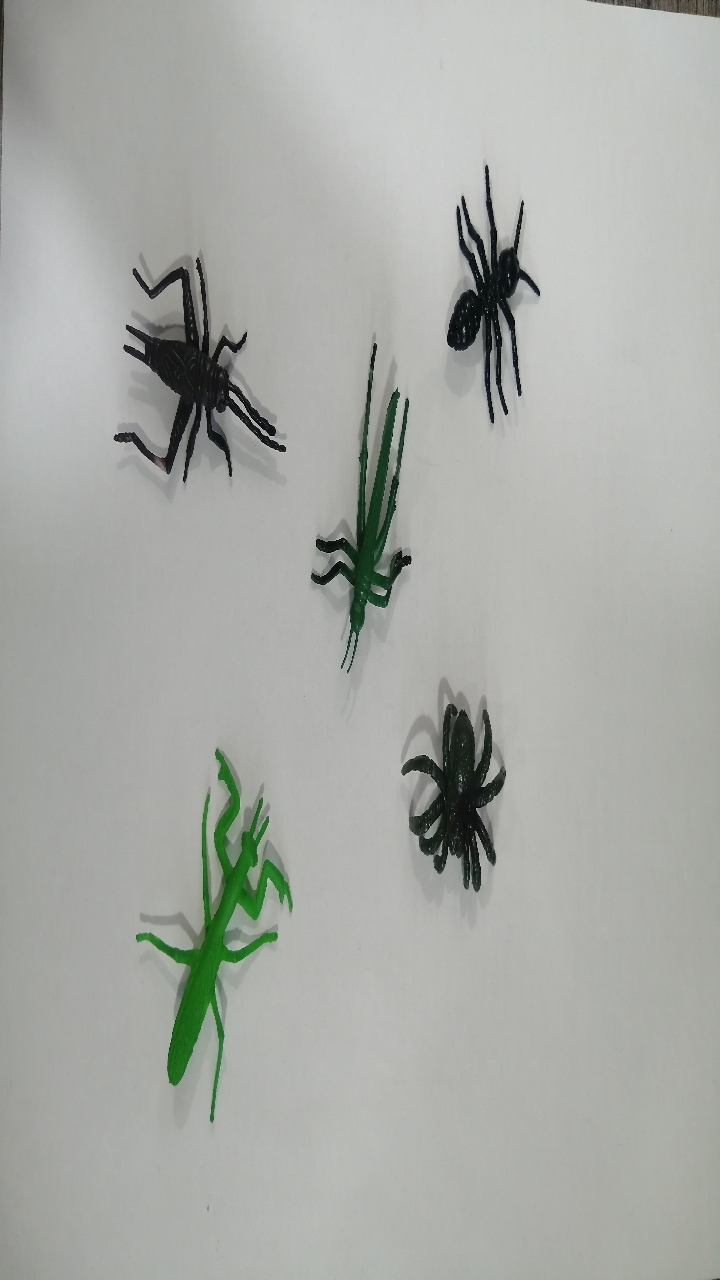intruso: (121, 732, 318, 1143), (78, 240, 301, 565), (295, 329, 441, 668), (417, 145, 558, 422), (378, 672, 534, 922)
